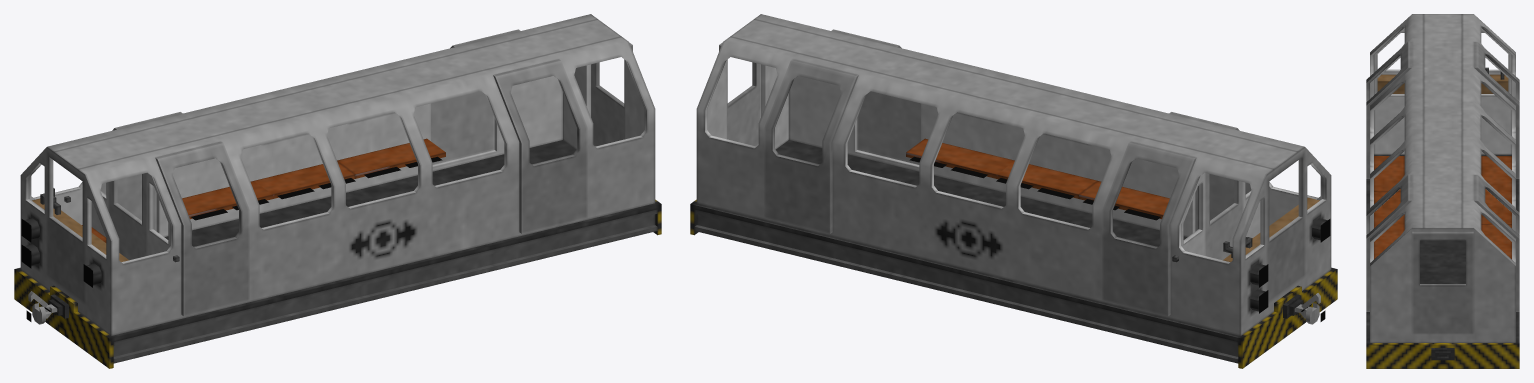
Rendered from kitsune_mk2_subway_front.obj.
3 renders of one model, left to right at view 1: azimuth 30°, elevation 25°; view 2: azimuth 150°, elevation 25°; view 3: azimuth 270°, elevation 25°, orthographic. The views are drawn at different scales.
Parts seen in each view (by area): view 1: FRAME_0_body, FRAME_0_body.001, DOOR_1_EXTERNAL_NOTOUCH_CG_leftdoor_TL_1_X, DOOR_2_EXTERNAL_NOTOUCH_CG_leftdoor_TL_-1_X, FRAME_3, FRAME_2, FRAME_1, FRAME_end1, DOOR_4_EXTERNAL_NOTOUCH_CG_rightdoor_TL_-1_X, DOOR_6_CONNECTING_NOTOUCH, DOOR_5_CONNECTING_TOGGLE_HIDE, DOOR_7 (+3 smaller); view 2: FRAME_0_body, FRAME_0_body.001, DOOR_3_EXTERNAL_NOTOUCH_CG_rightdoor_TL_1_X, DOOR_4_EXTERNAL_NOTOUCH_CG_rightdoor_TL_-1_X, FRAME_3, FRAME_2, FRAME_1, FRAME_end1, DOOR_2_EXTERNAL_NOTOUCH_CG_leftdoor_TL_-1_X, DOOR_6_CONNECTING_NOTOUCH, DOOR_5_CONNECTING_TOGGLE_HIDE, DOOR_7 (+3 smaller); view 3: FRAME_0_body, FRAME_0_body.001, DOOR_5_CONNECTING_TOGGLE_HIDE, FRAME_end2, FRAME_2, DOOR_3_EXTERNAL_NOTOUCH_CG_rightdoor_TL_1_X, DOOR_1_EXTERNAL_NOTOUCH_CG_leftdoor_TL_1_X, DOOR_4_EXTERNAL_NOTOUCH_CG_rightdoor_TL_-1_X, DOOR_2_EXTERNAL_NOTOUCH_CG_leftdoor_TL_-1_X, FRAME_3, COUPLER_ENGAGED_REAR_2_TOGGLE_LABEL_Uncouple, FRAME_1.
Part boxes in pixels (x1=…): FRAME_0_body: x1=20, y1=14, x2=655, y2=335; FRAME_0_body.001: x1=25, y1=60, x2=646, y2=263; DOOR_1_EXTERNAL_NOTOUCH_CG_leftdoor_TL_1_X: x1=155, y1=141, x2=249, y2=316; DOOR_2_EXTERNAL_NOTOUCH_CG_leftdoor_TL_-1_X: x1=493, y1=59, x2=587, y2=233; FRAME_3: x1=373, y1=147, x2=622, y2=277; FRAME_2: x1=217, y1=186, x2=463, y2=316; FRAME_1: x1=146, y1=224, x2=307, y2=354; FRAME_end1: x1=14, y1=267, x2=148, y2=368; DOOR_4_EXTERNAL_NOTOUCH_CG_rightdoor_TL_-1_X: x1=431, y1=29, x2=520, y2=164; DOOR_6_CONNECTING_NOTOUCH: x1=47, y1=151, x2=84, y2=303; DOOR_5_CONNECTING_TOGGLE_HIDE: x1=591, y1=42, x2=632, y2=146; DOOR_7: x1=108, y1=173, x2=146, y2=260; FRAME_0_body: x1=696, y1=14, x2=1331, y2=335; FRAME_0_body.001: x1=705, y1=60, x2=1326, y2=263; DOOR_3_EXTERNAL_NOTOUCH_CG_rightdoor_TL_1_X: x1=1102, y1=141, x2=1196, y2=316; DOOR_4_EXTERNAL_NOTOUCH_CG_rightdoor_TL_-1_X: x1=764, y1=59, x2=858, y2=233; FRAME_3: x1=729, y1=147, x2=978, y2=277; FRAME_2: x1=888, y1=186, x2=1134, y2=316; FRAME_1: x1=1044, y1=224, x2=1205, y2=354; FRAME_end1: x1=1203, y1=267, x2=1337, y2=368; DOOR_2_EXTERNAL_NOTOUCH_CG_leftdoor_TL_-1_X: x1=831, y1=29, x2=920, y2=164; DOOR_6_CONNECTING_NOTOUCH: x1=1267, y1=151, x2=1304, y2=302; DOOR_5_CONNECTING_TOGGLE_HIDE: x1=719, y1=42, x2=760, y2=146; DOOR_7: x1=1205, y1=173, x2=1243, y2=260; FRAME_0_body: x1=1370, y1=14, x2=1515, y2=342; FRAME_0_body.001: x1=1370, y1=26, x2=1515, y2=262; DOOR_5_CONNECTING_TOGGLE_HIDE: x1=1412, y1=231, x2=1473, y2=334; FRAME_end2: x1=1366, y1=329, x2=1519, y2=368; FRAME_2: x1=1366, y1=205, x2=1519, y2=266; DOOR_3_EXTERNAL_NOTOUCH_CG_rightdoor_TL_1_X: x1=1473, y1=41, x2=1519, y2=178; DOOR_1_EXTERNAL_NOTOUCH_CG_leftdoor_TL_1_X: x1=1366, y1=41, x2=1412, y2=178; DOOR_4_EXTERNAL_NOTOUCH_CG_rightdoor_TL_-1_X: x1=1473, y1=174, x2=1519, y2=311; DOOR_2_EXTERNAL_NOTOUCH_CG_leftdoor_TL_-1_X: x1=1366, y1=174, x2=1412, y2=311; FRAME_3: x1=1366, y1=266, x2=1519, y2=329; COUPLER_ENGAGED_REAR_2_TOGGLE_LABEL_Uncouple: x1=1431, y1=348, x2=1454, y2=360; FRAME_1: x1=1366, y1=154, x2=1519, y2=204.
Size of the model in its own units: 9 by 2.62 by 2.5.
6 materials, 6 textured.
